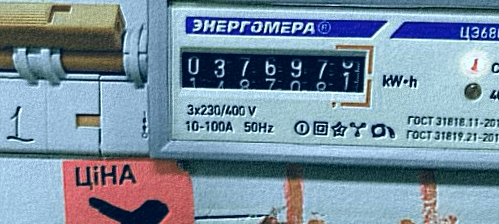0: (186, 54, 202, 76)
1: (341, 70, 353, 92)
3: (213, 57, 227, 80)
6: (265, 55, 278, 77)
7: (239, 54, 252, 78), (316, 57, 329, 80)
9: (290, 57, 303, 79)
screen: (173, 40, 377, 111)
